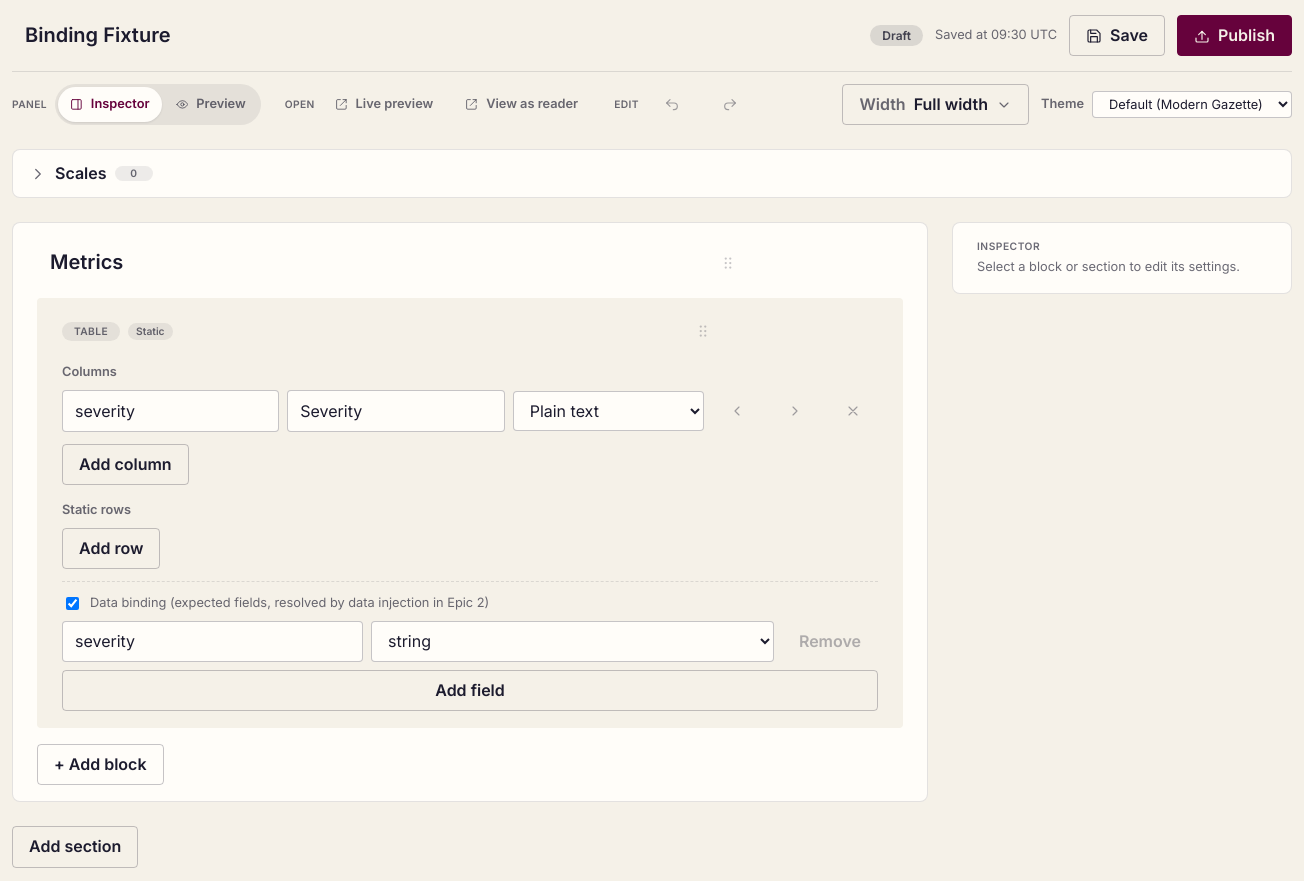
Scenario: Editor data binding - token reconciliation (Epic 10.5) › reseeds the working copy from the bound document so the preview renders bound
This screenshot has width=1304, height=881.
Click the button "Preview".
click(211, 105)  # box [164,87,258,122]
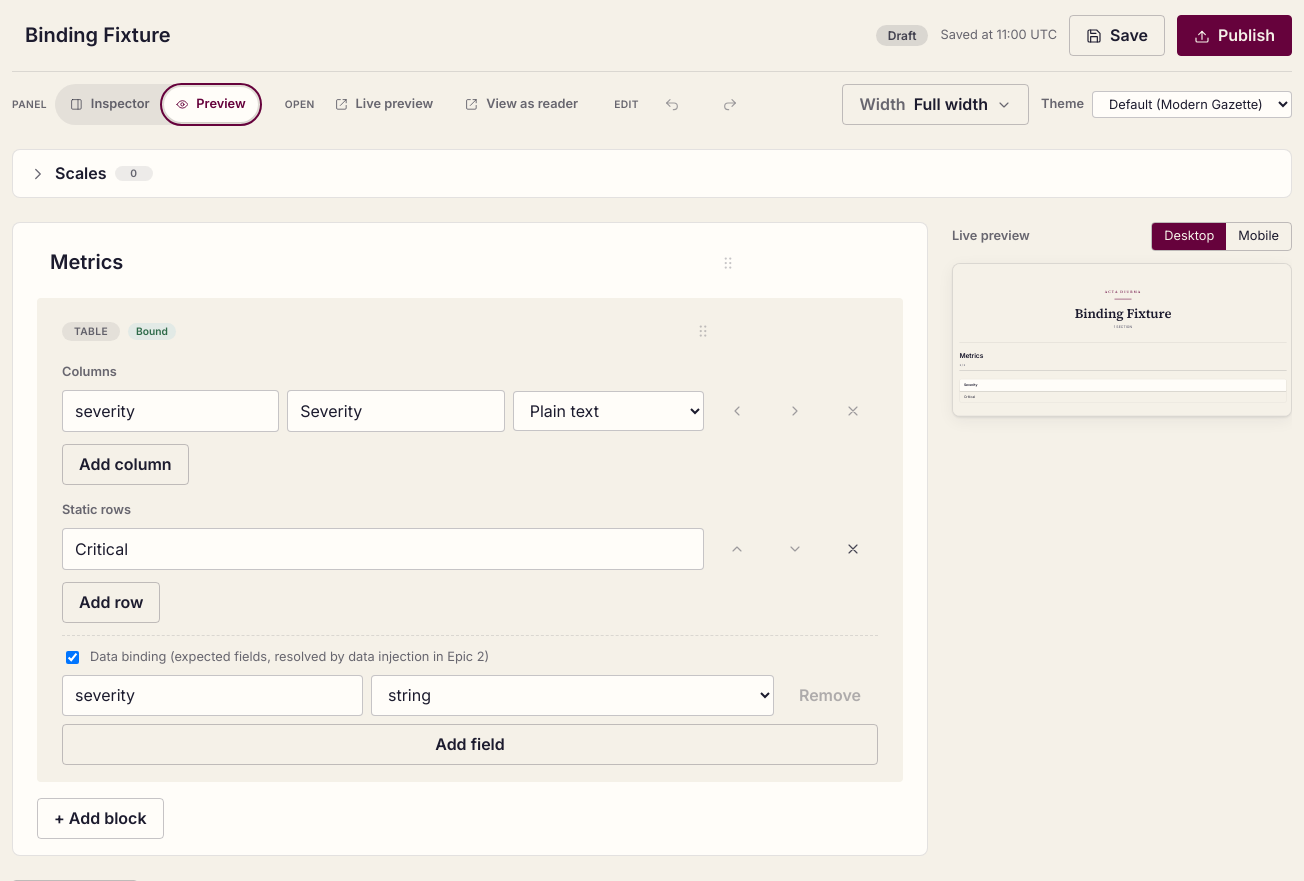
Expected: the text "Critical" is shown, [960,391,1286,402]
